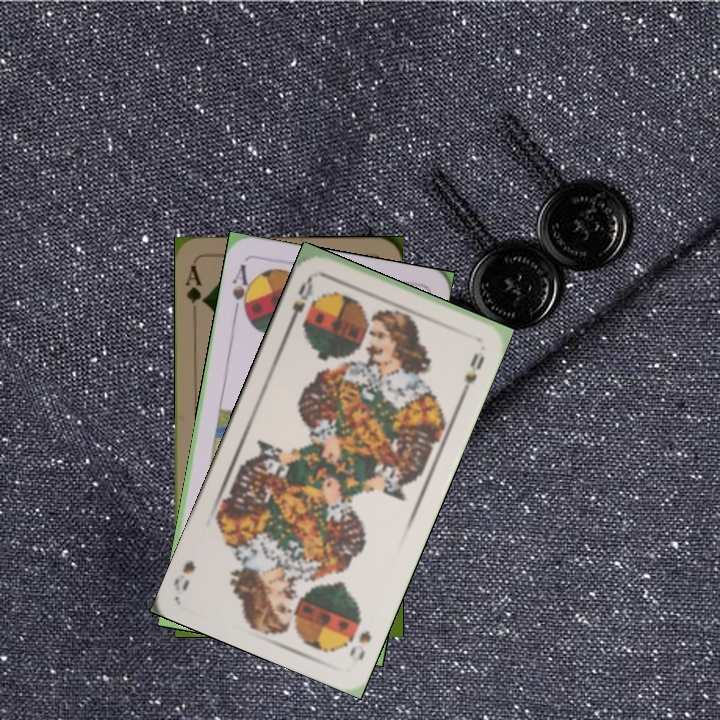GA: (181, 262, 208, 309)
SA: (227, 260, 256, 320)
SO: (285, 271, 316, 328), (345, 626, 374, 663)
